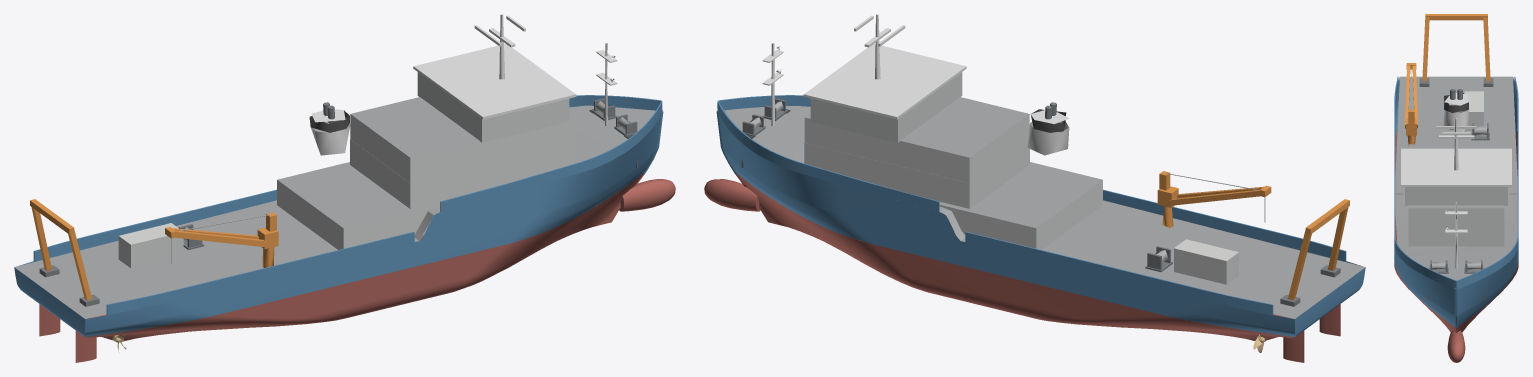
File: research.glb
3 renders of one model, left to right at view 1: azimuth 30°, elevation 25°; view 2: azimuth 150°, elevation 25°; view 3: azimuth 270°, elevation 25°, orthographic. The views are drawn at different scales.
Size of the model in its own units: 71.8 by 25.62 by 15.5.
